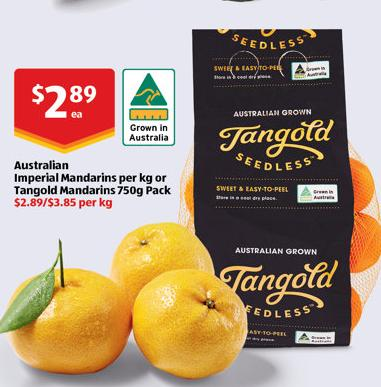description_block: (1, 158, 176, 197)
price_main: (5, 63, 119, 154)
product_image_block: (0, 213, 272, 378)
unit_price_block: (7, 196, 134, 214)
